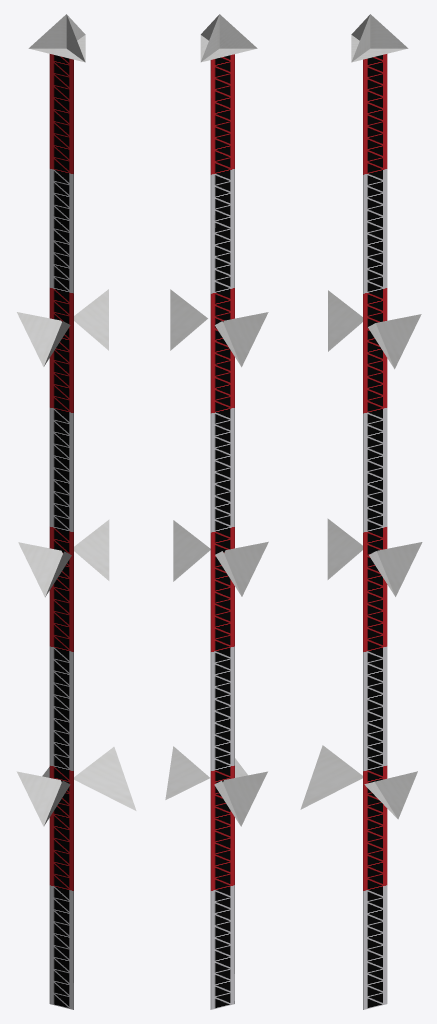
File: tower-radio-guy-207m-cbj_LOD07.gltf
3 renders of one model, left to right at view 1: azimuth 90°, elevation 25°; view 2: azimuth 150°, elevation 25°; view 3: azimuth 270°, elevation 25°, orthographic.
Parts seen in each view (by area): view 1: post.007; view 2: post.007; view 3: post.007.
Boxes of the visible parts, x1=… form: post.007: x1=16, y1=14, x2=136, y2=1009; post.007: x1=165, y1=14, x2=268, y2=1009; post.007: x1=300, y1=14, x2=422, y2=1009.
Size of the model in its own units: 22.29 by 216 by 24.13.
